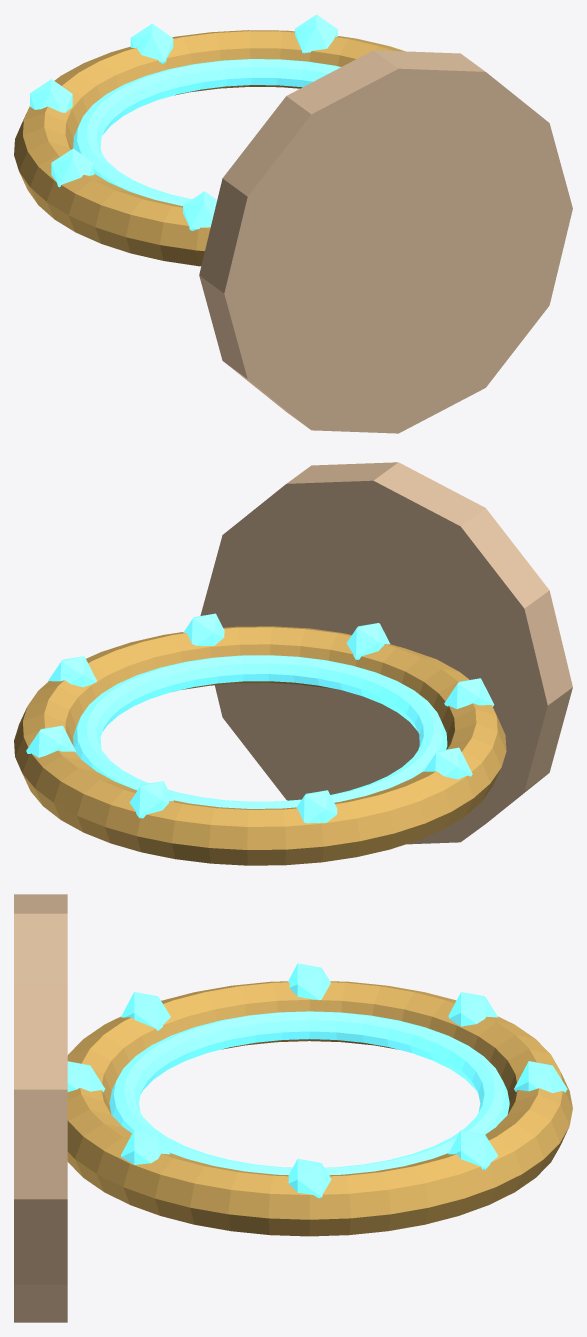
3 renders of one model, top to bottom at view 1: azimuth 30°, elevation 25°; view 2: azimuth 150°, elevation 25°; view 3: azimuth 270°, elevation 25°, orthographic. The views are drawn at different scales.
Visible parts, largest first — view 1: ai_export.018; view 2: ai_export.018; view 3: ai_export.018.
Boxes of the visible parts, x1,y1,x2,y2 form: ai_export.018: [14, 14, 572, 433]; ai_export.018: [14, 462, 572, 865]; ai_export.018: [14, 894, 572, 1322].
Size of the model in its own units: 1.96 by 1.6 by 2.08.
